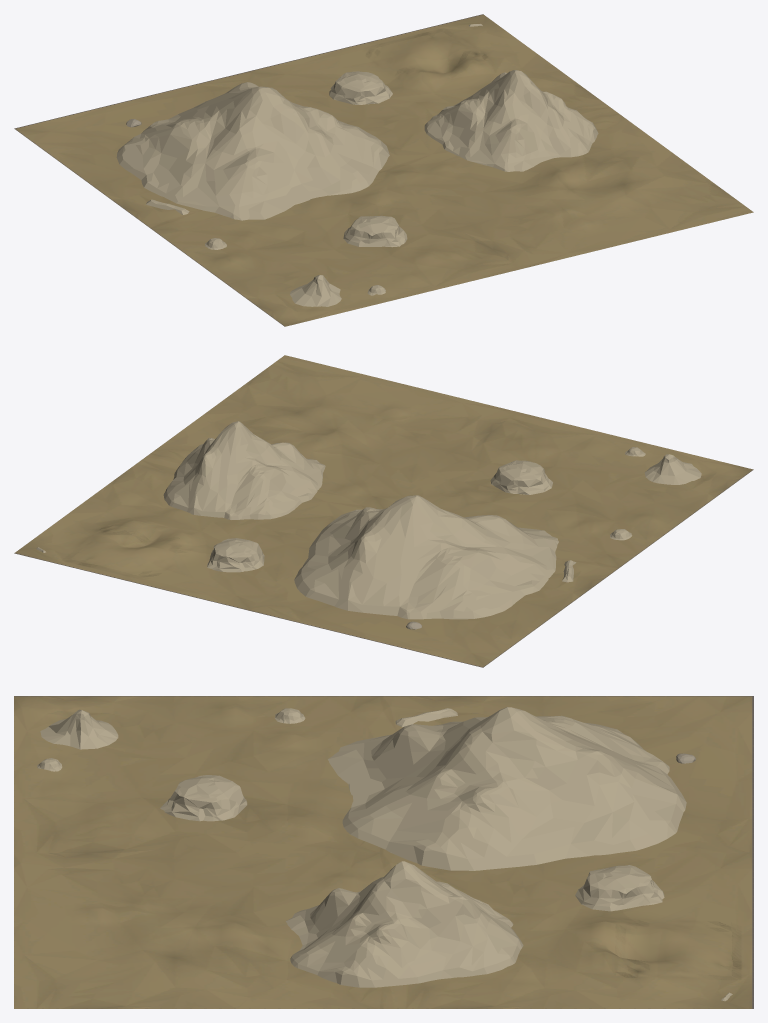
The model's file is Desert_Steppable.fbx.
3 renders of one model, top to bottom at view 1: azimuth 30°, elevation 25°; view 2: azimuth 150°, elevation 25°; view 3: azimuth 270°, elevation 25°, orthographic. The views are drawn at different scales.
Visible parts, largest first — view 1: Plane002, PolygonNature_04, PolygonNature_01, PolygonNature_04_1; view 2: Plane002, PolygonNature_04, PolygonNature_01, PolygonNature_04_1; view 3: Plane002, PolygonNature_04, PolygonNature_01, PolygonNature_04_1.
Boxes of the visible parts, x1=… form: Plane002: x1=14, y1=14, x2=753, y2=326; PolygonNature_04: x1=116, y1=70, x2=598, y2=247; PolygonNature_01: x1=126, y1=23, x2=482, y2=306; PolygonNature_04_1: x1=329, y1=71, x2=392, y2=104; Plane002: x1=14, y1=355, x2=753, y2=667; PolygonNature_04: x1=163, y1=421, x2=558, y2=619; PolygonNature_01: x1=36, y1=447, x2=701, y2=629; PolygonNature_04_1: x1=207, y1=538, x2=264, y2=572; Plane002: x1=14, y1=696, x2=753, y2=1008; PolygonNature_04: x1=160, y1=707, x2=686, y2=987; PolygonNature_01: x1=37, y1=708, x2=732, y2=1001; PolygonNature_04_1: x1=575, y1=865, x2=664, y2=911.
Bounding box in the file's own units: 100 × 15.25 × 100.
Materials: 3 (3 with a texture image).
